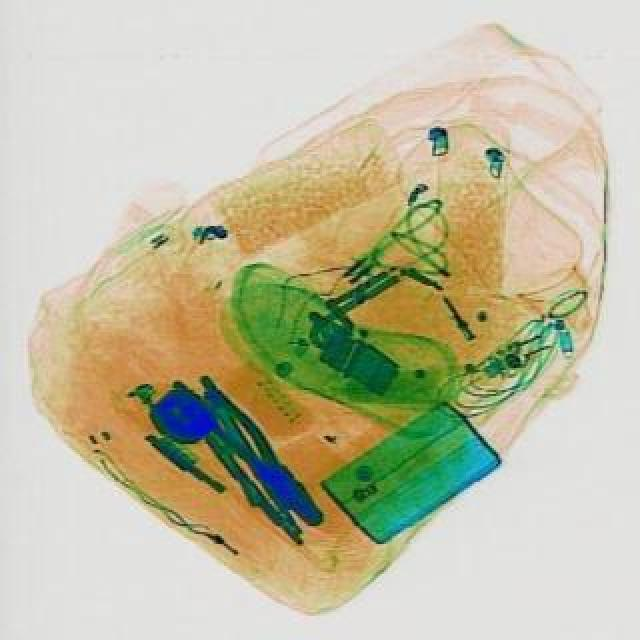wrench: (162, 360, 334, 536)
